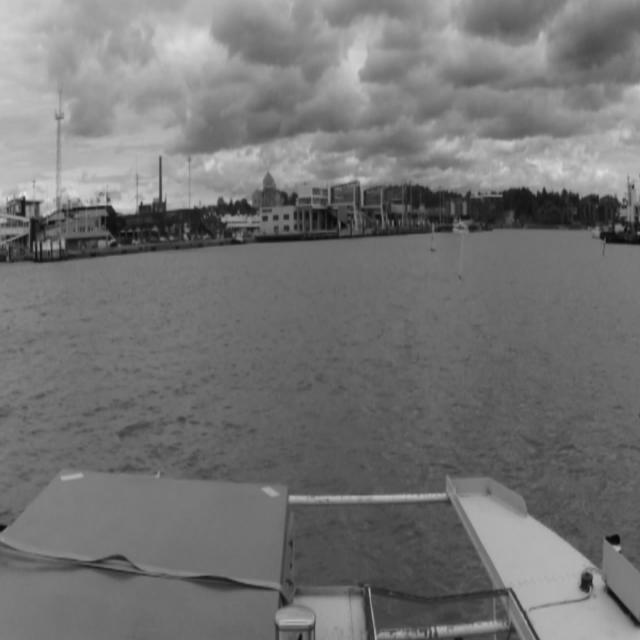buoy: (456, 231, 466, 285), (427, 217, 437, 258), (600, 229, 608, 265)
ship: (592, 178, 636, 236), (452, 217, 469, 235)
